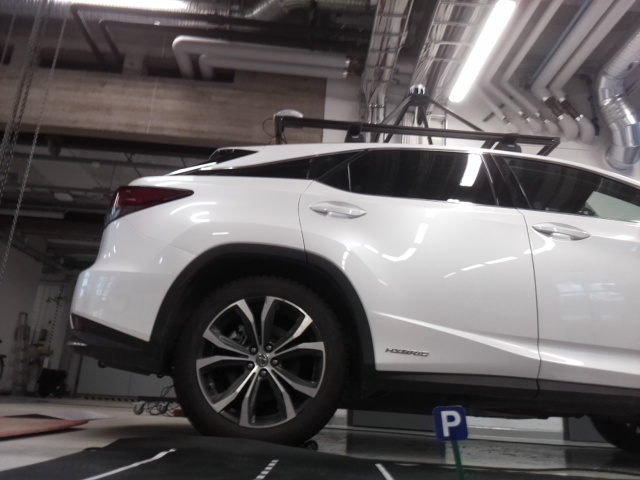Parking: (433, 406, 467, 439)
